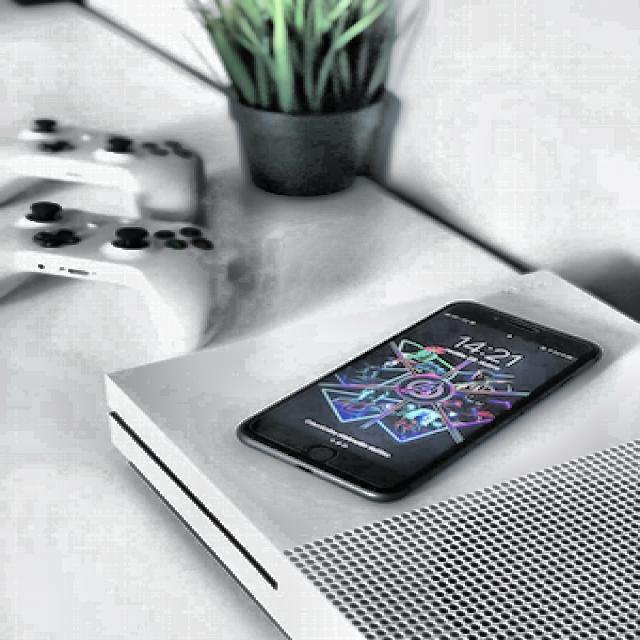Phone: (234, 296, 604, 510)
